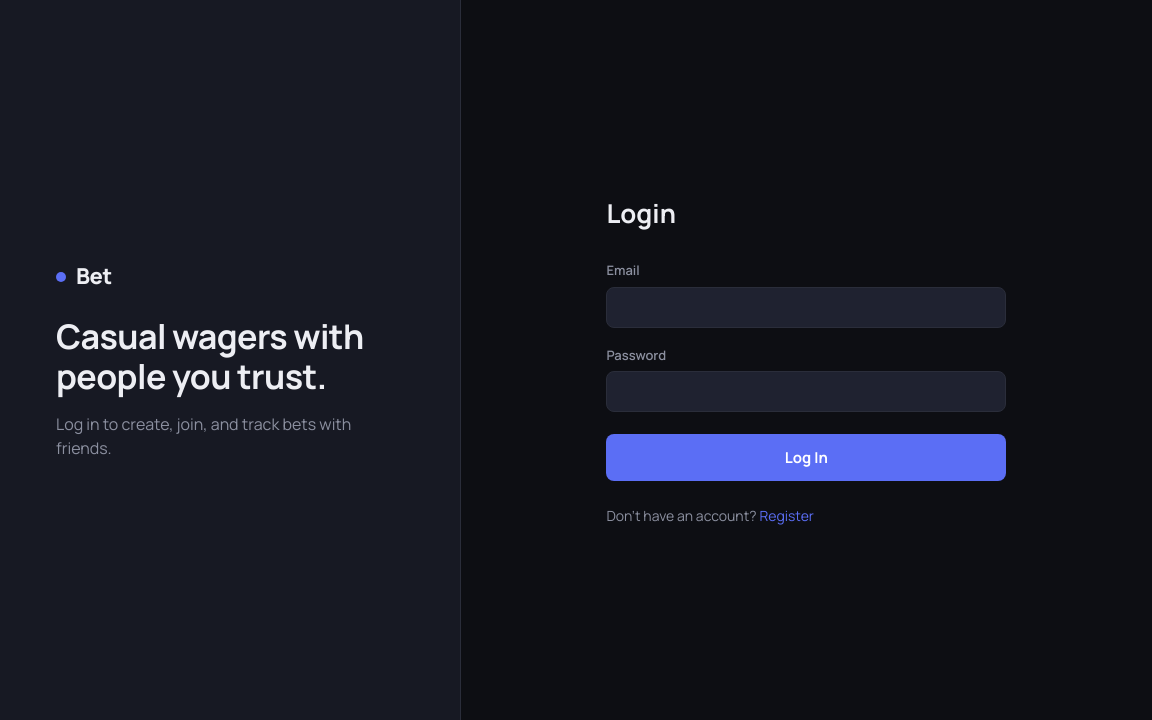
Test: LoginPage validation › shows an error message when login fails with invalid credentials
The width and height of the screenshot is (1152, 720).
In the field labelled "Email": (806, 307) 606,286 -> 1006,328, type "test@example.com"
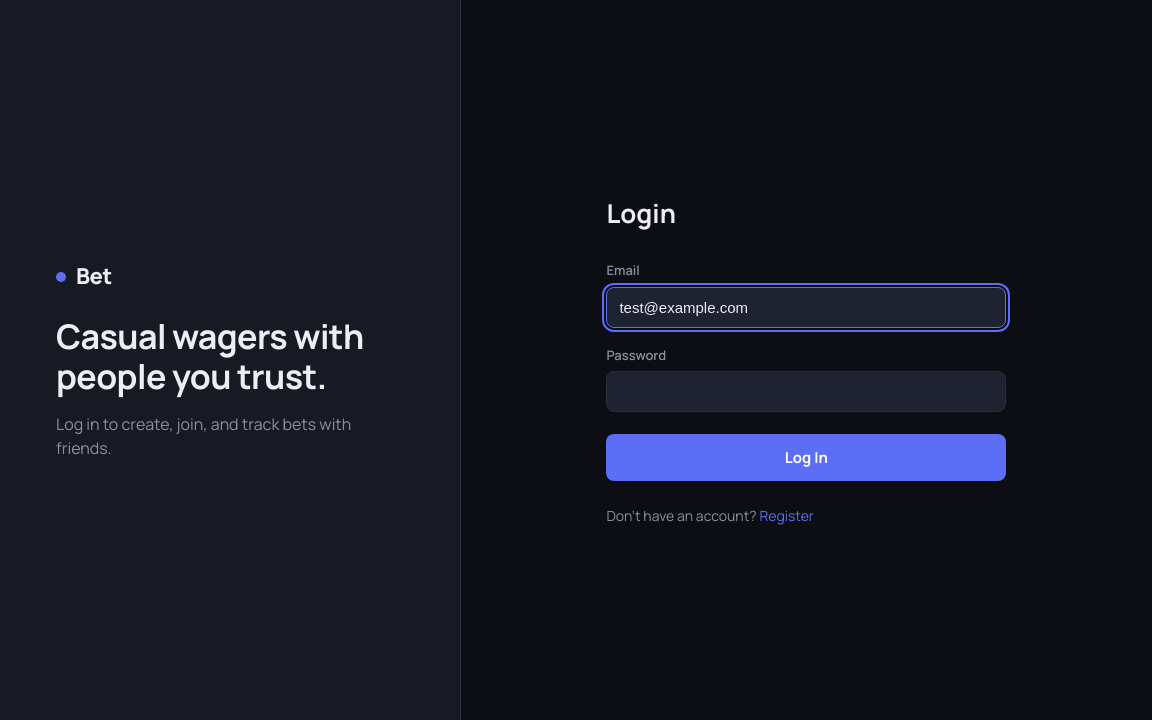
In the password field labelled "Password": (806, 392) 606,371 -> 1006,412, type "wrongpassword"
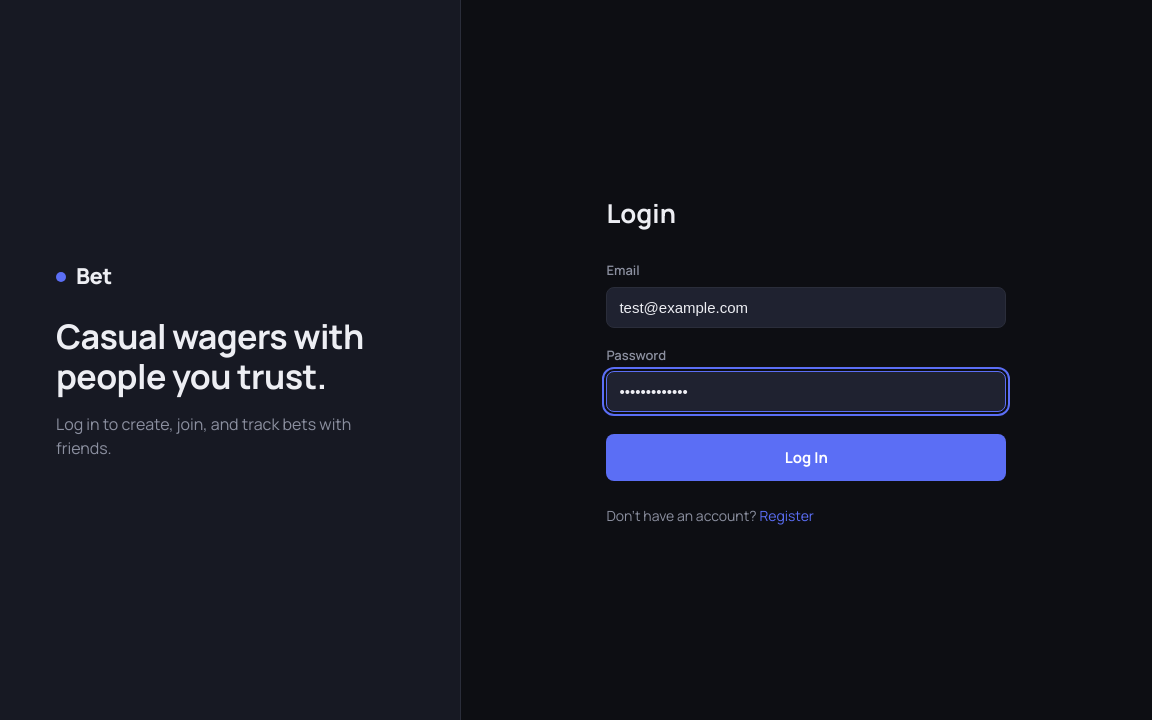
Click the button "Log In": click(806, 458) 606,434 -> 1006,481
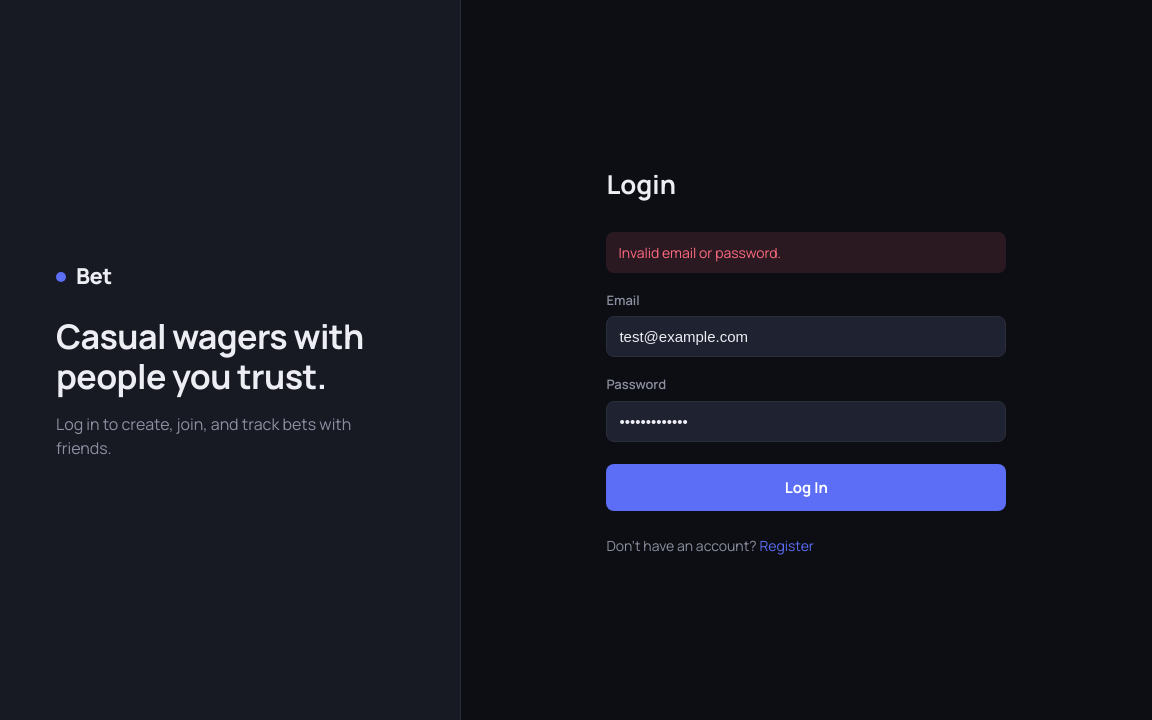
expect the text "Invalid email or password." is shown: met, box 606,232 -> 1006,272
